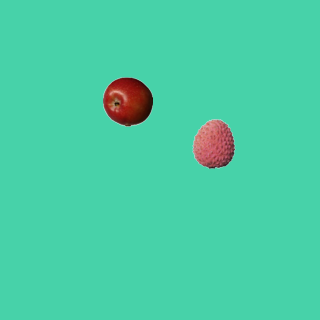Apple Braeburn: (102, 76, 152, 126)
Lychee: (188, 118, 238, 168)
